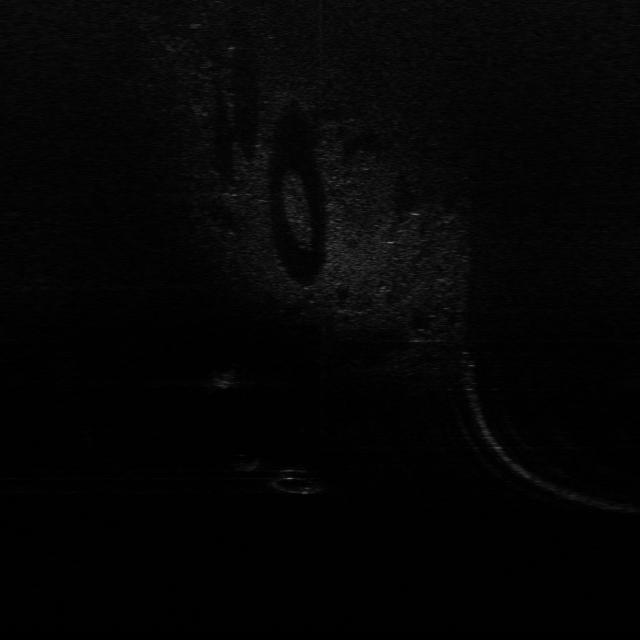cube: (232, 451, 264, 473)
square cage: (203, 366, 239, 390)
tyre: (267, 464, 327, 492)
